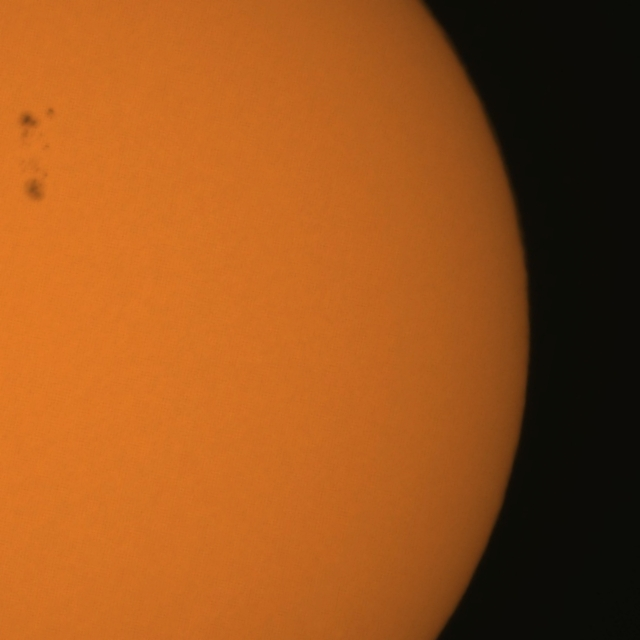sunspot: (17, 107, 58, 147), (23, 165, 51, 205)
